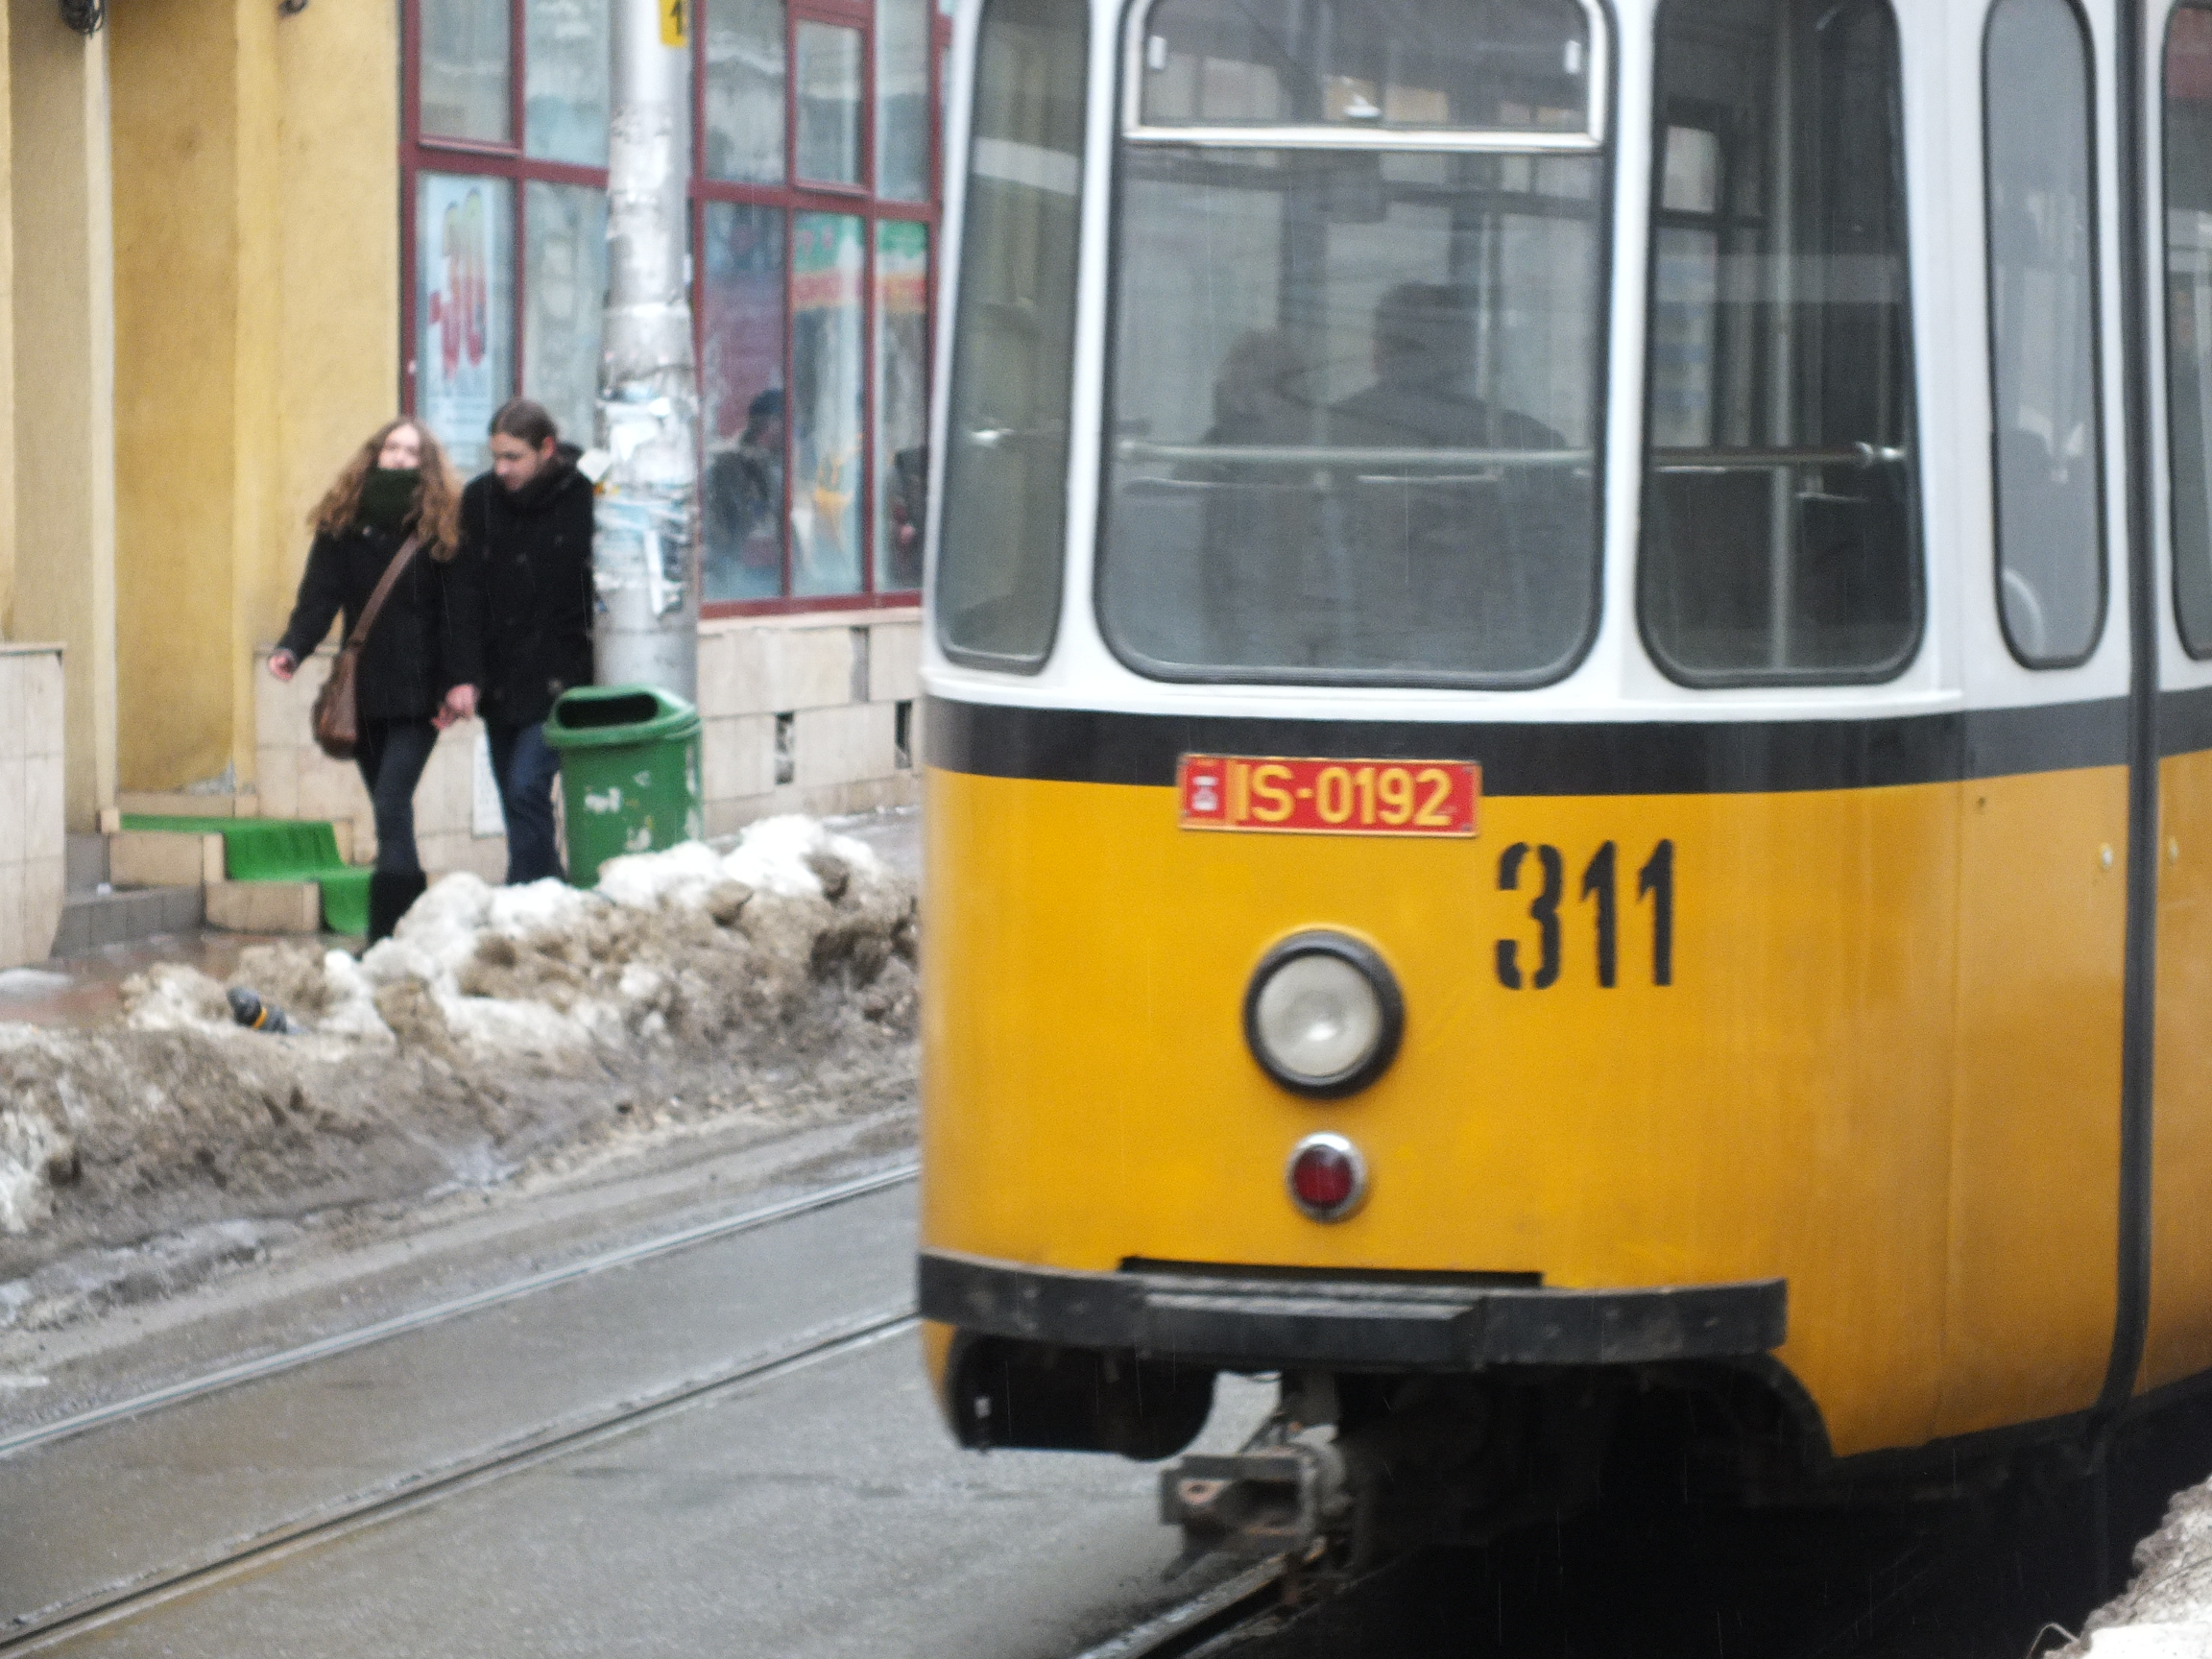IS0192: (1183, 757, 1456, 833)
